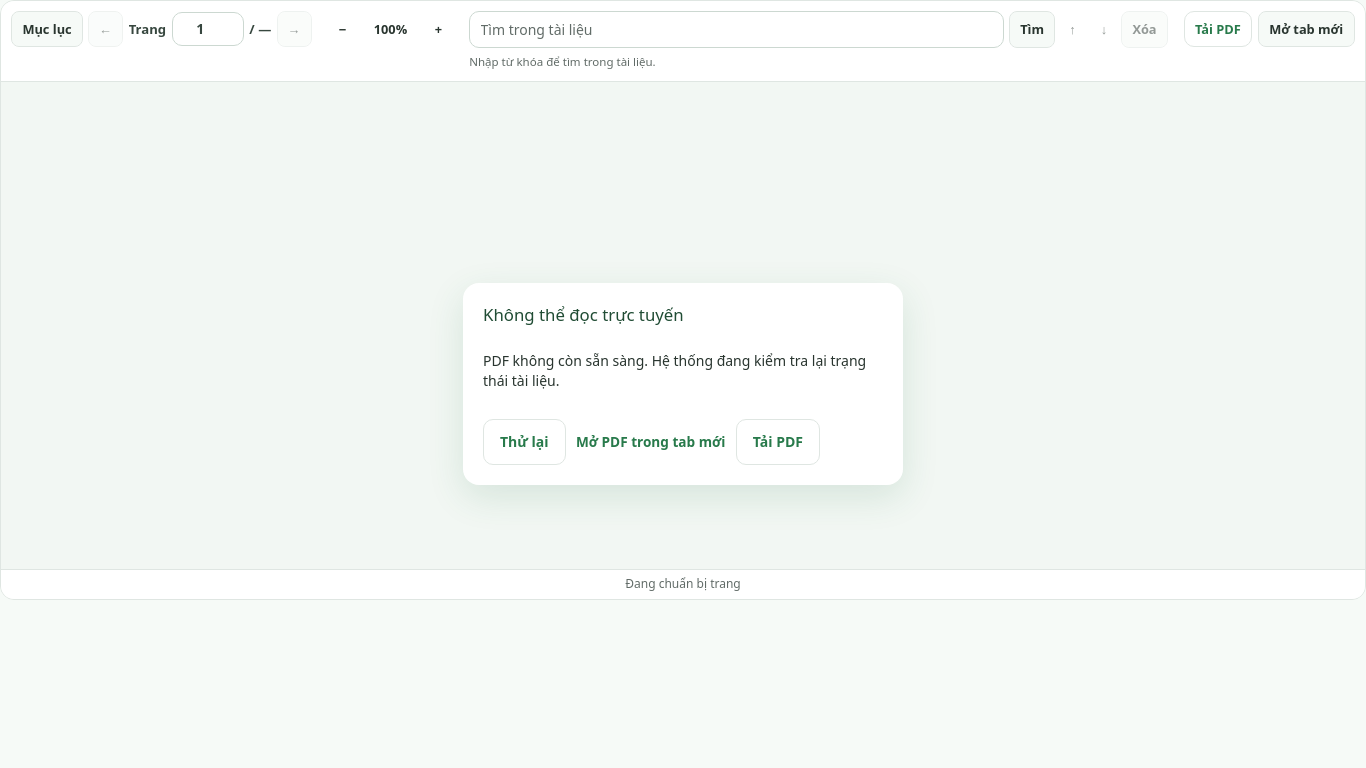
it: LibraryPdfReader › rechecks metadata once for a missing PDF and keeps a retry fallback
Expected: the message shows "PDF không còn sẵn sàng", left=483, top=351, right=866, bottom=390
Click the button "Tải PDF" next to "Mở PDF trong tab mới" at (778, 442), box left=736, top=419, right=820, bottom=465
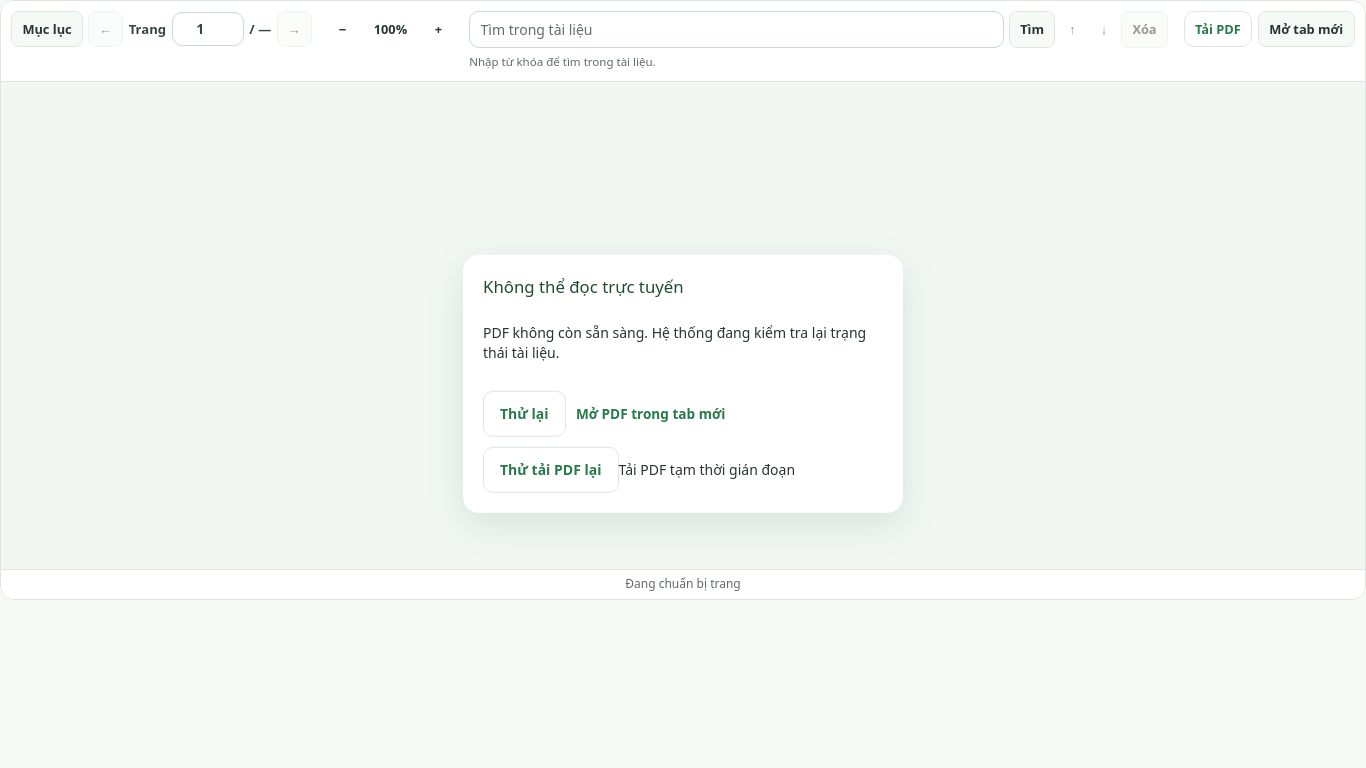
Expected: the text "Tải PDF tạm thời gián đoạn" is shown, left=618, top=460, right=795, bottom=479
